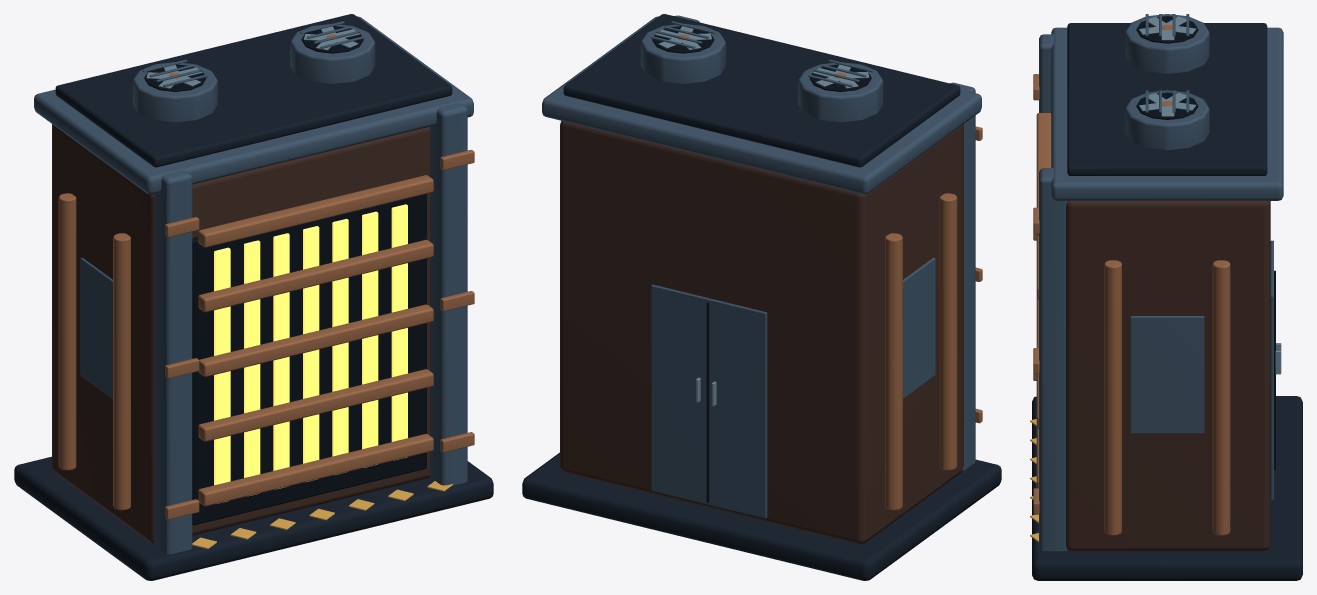
File: foundry_furnace.fbx
The picture shows the model from 3 angles, left to right: view 1: azimuth 30°, elevation 25°; view 2: azimuth 150°, elevation 25°; view 3: azimuth 270°, elevation 25°; orthographic projection.
Visible parts, largest first — view 1: foundry_furnace_Geometry; view 2: foundry_furnace_Geometry; view 3: foundry_furnace_Geometry, FanRotor_R_Geometry, FanRotor_L_Geometry.
Boxes of the visible parts, x1,y1,x2,y2 form: foundry_furnace_Geometry: (14,14,493,580); foundry_furnace_Geometry: (522,14,1001,580); foundry_furnace_Geometry: (1030,14,1302,580); FanRotor_R_Geometry: (1139,92,1196,116); FanRotor_L_Geometry: (1139,16,1196,40).
Size of the model in its own units: 6.2 by 7.46 by 4.23.
